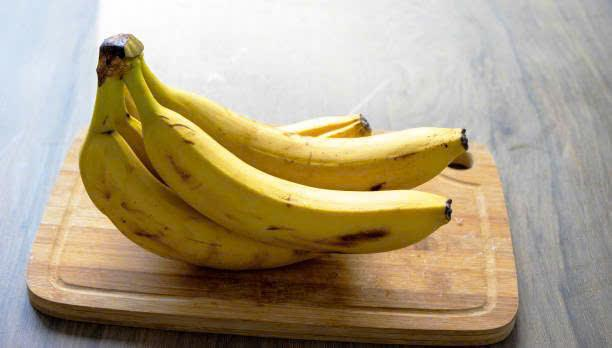banana: (88, 28, 480, 276), (133, 95, 457, 256)
